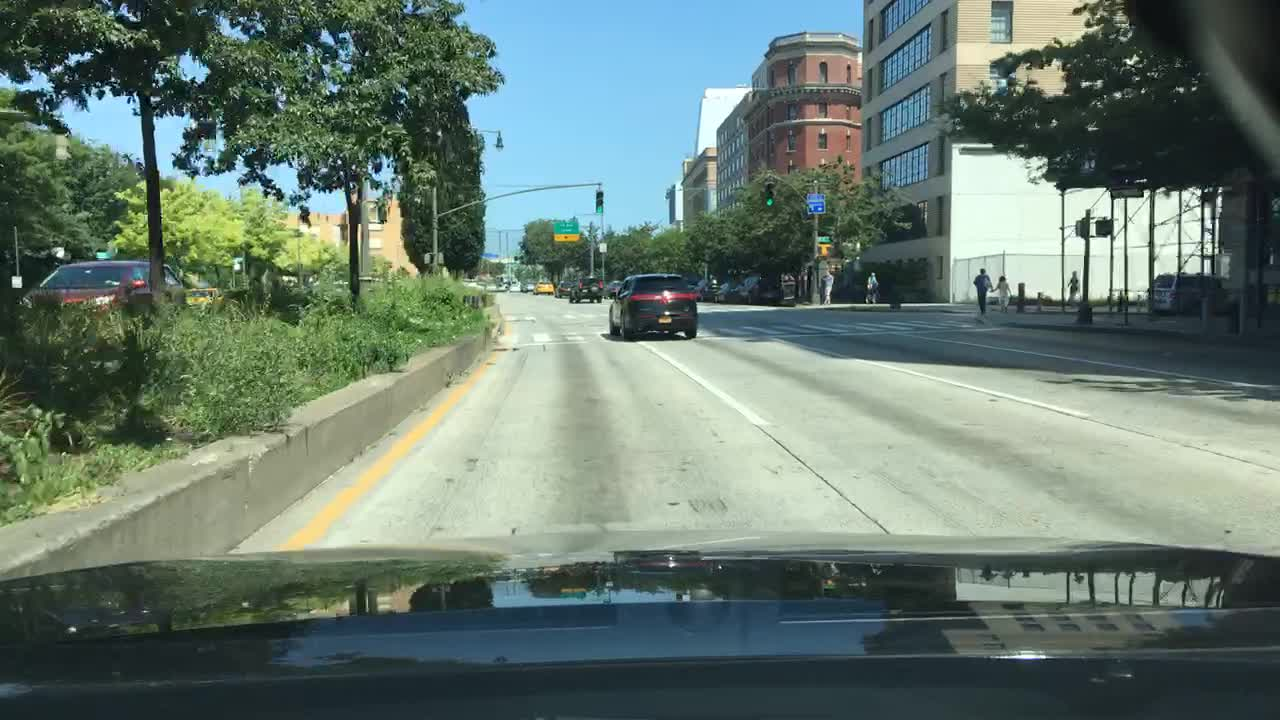car: (19, 260, 186, 321), (608, 272, 699, 341), (1149, 274, 1225, 314), (728, 274, 785, 307), (712, 274, 746, 307), (569, 274, 604, 306), (690, 274, 728, 301), (186, 286, 220, 307), (550, 275, 576, 297), (356, 274, 387, 291), (533, 274, 554, 294), (603, 279, 626, 297), (459, 275, 478, 291), (518, 277, 535, 294), (469, 280, 488, 292), (508, 280, 523, 294), (485, 279, 498, 292)
person: (971, 265, 992, 314), (991, 275, 1013, 311), (1063, 267, 1082, 304), (863, 267, 881, 306), (820, 267, 834, 302)
traffic light: (1094, 218, 1111, 237), (763, 179, 773, 206), (817, 245, 834, 260), (594, 188, 604, 213), (1073, 216, 1084, 235), (420, 250, 429, 267), (436, 252, 446, 267)
traffic sign: (552, 220, 579, 242), (805, 193, 825, 215), (1109, 186, 1143, 198), (815, 233, 830, 242)
